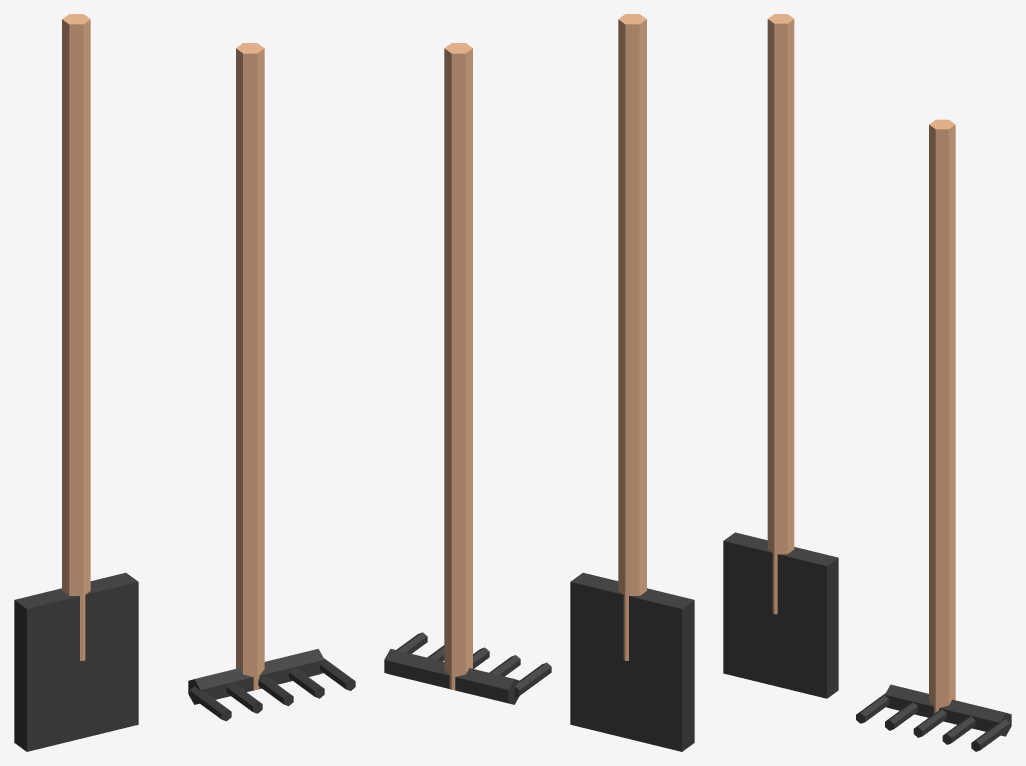
3 views of the same model, side by side, from view 1: azimuth 30°, elevation 25°; view 2: azimuth 150°, elevation 25°; view 3: azimuth 330°, elevation 25° (orthographic). The views are drawn at different scales.
Visible parts, largest first — view 1: Spade, Tool handle.001, Tool handle, Rake head, Rake tine; view 2: Spade, Tool handle.001, Tool handle, Rake head, Rake tine; view 3: Spade, Tool handle.001, Tool handle, Rake head, Rake tine.004.
Boxes of the visible parts, x1,y1,x2,y2 form: Spade: [14, 572, 138, 751]; Tool handle.001: [236, 43, 264, 689]; Tool handle: [62, 14, 90, 660]; Rake head: [188, 648, 324, 704]; Rake tine: [189, 686, 231, 721]; Spade: [570, 572, 694, 751]; Tool handle.001: [444, 43, 472, 689]; Tool handle: [618, 14, 646, 660]; Rake head: [384, 648, 520, 704]; Rake tine: [514, 662, 551, 697]; Spade: [723, 532, 838, 698]; Tool handle.001: [929, 119, 955, 713]; Tool handle: [767, 14, 794, 614]; Rake head: [885, 684, 1011, 736]; Rake tine.004: [971, 719, 1010, 751].
Bounding box in the file's own units: 0.4878 × 1.1 × 0.11.
Materials: 1 (1 with a texture image).
